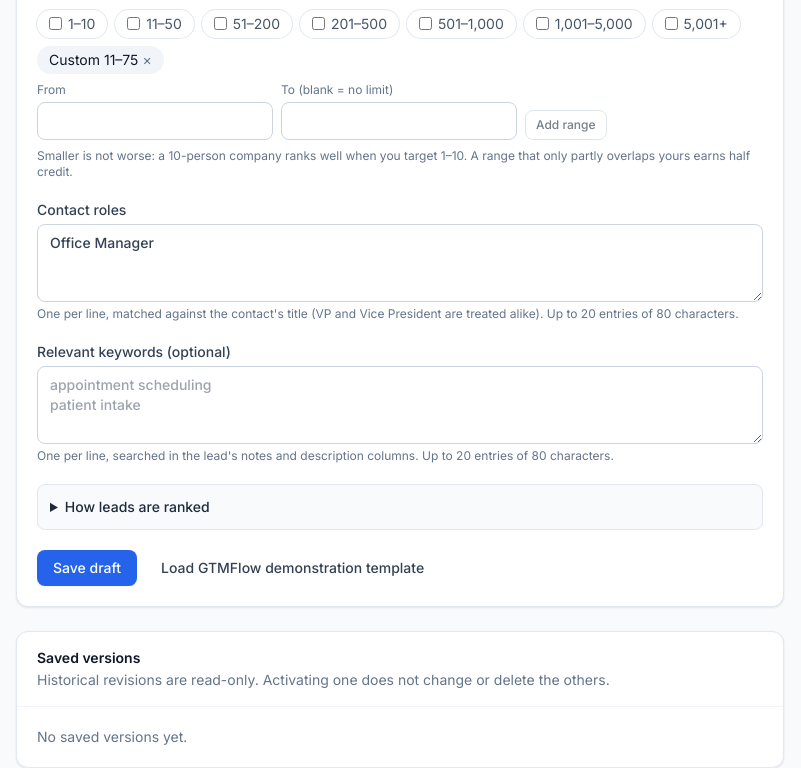
Test case: seller profile drafts › keeps a saved custom size range and warns when no target customers are set
(page scrolled)
Expected: the list item "Custom 11–75" is shown, left=37, top=46, right=164, bottom=74
Step 1. Click the button "Save draft" → [87, 568], box left=37, top=550, right=137, bottom=586
(page scrolled)
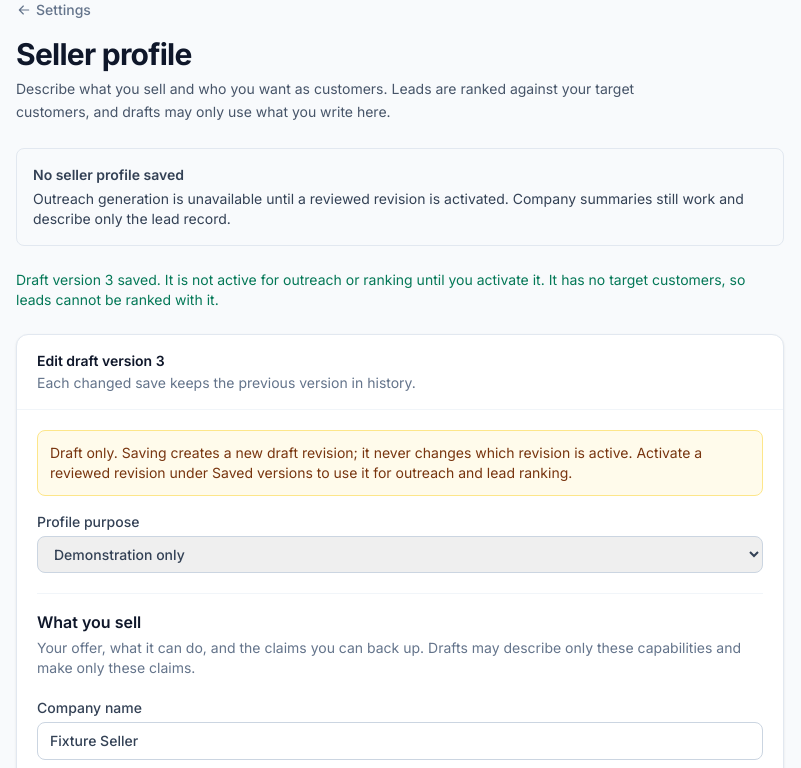
Now the text "It has no target customers, so leads cannot be ranked with it" is shown, box left=16, top=270, right=745, bottom=308
